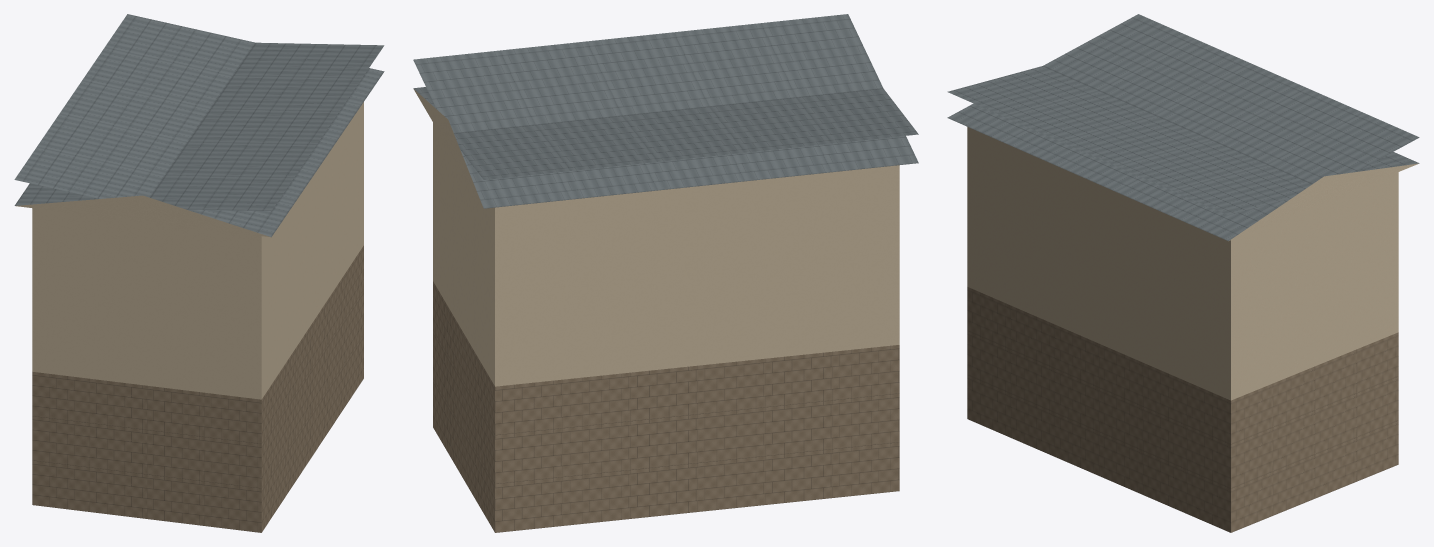
The model's file is bld_c13_36_415.gltf.
The picture shows the model from 3 angles, left to right: view 1: azimuth 30°, elevation 25°; view 2: azimuth 150°, elevation 25°; view 3: azimuth 270°, elevation 25°; orthographic projection. The views are drawn at different scales.
Parts seen in each view (by area): view 1: bld_c13_36_415; view 2: bld_c13_36_415; view 3: bld_c13_36_415.
Boxes of the visible parts, x1,y1,x2,y2 form: bld_c13_36_415: (14,14,384,532); bld_c13_36_415: (413,14,918,532); bld_c13_36_415: (947,14,1419,532).
Bounding box in the file's own units: 16.64 × 12.6 × 16.51.
4 materials, 4 textured.
